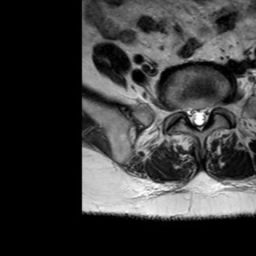CCS_normal: (195, 98, 203, 137)
LFS_normal: (211, 92, 220, 118)
LLS_normal: (203, 97, 211, 131)
RFS_severe_stenosis: (177, 96, 186, 121)
RLS_normal: (186, 100, 195, 131)
